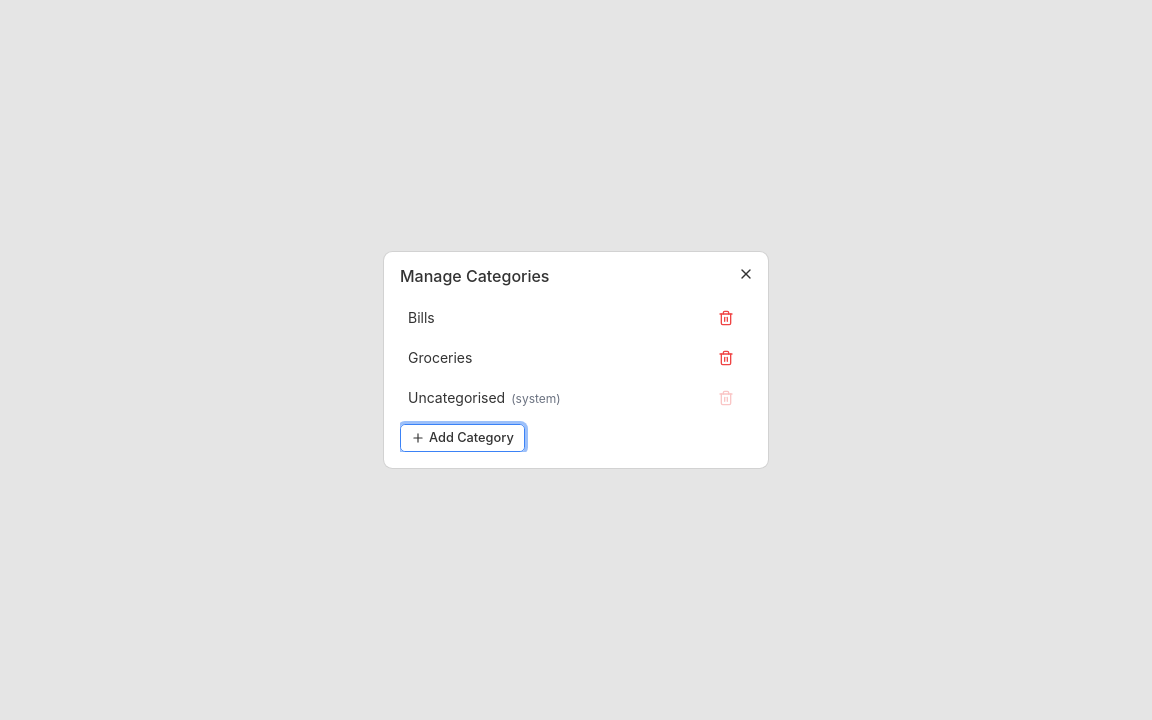
Test: CategoryManagementDialog — delete in-use category › shows replacement picker when category is in use
This screenshot has width=1152, height=720.
Click the button with test id "delete-btn-1".
click(726, 318)  # box [712,304,740,332]
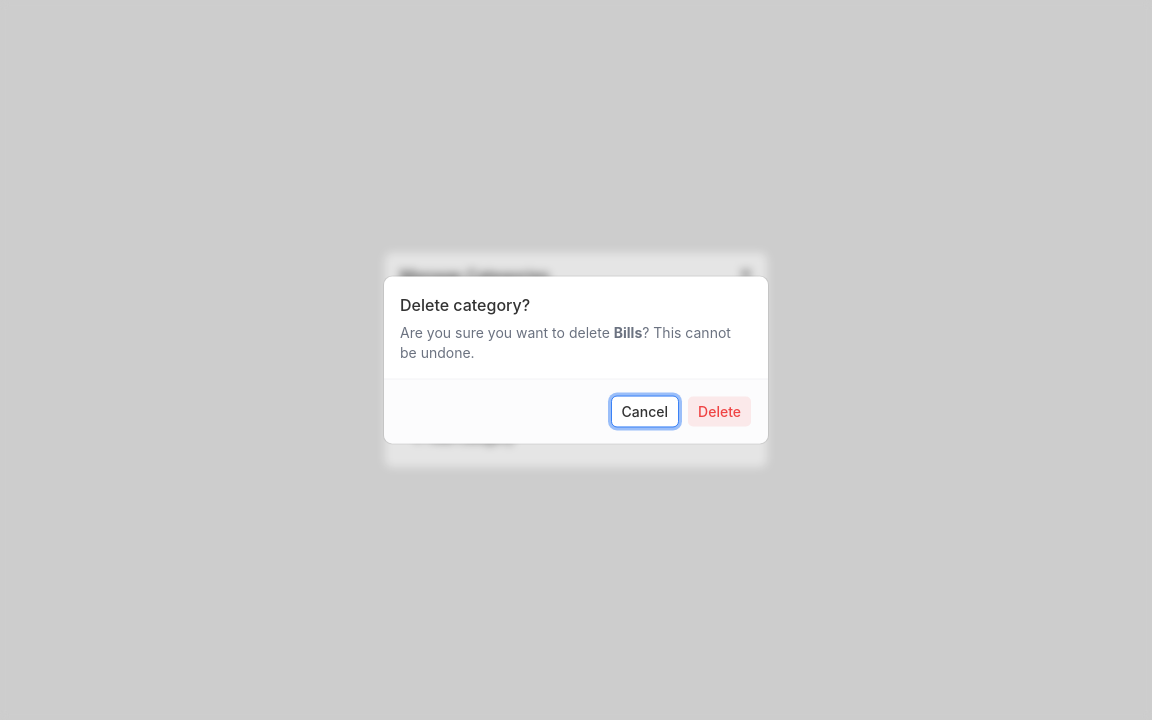
Result: the button with test id "delete-confirm" is shown
Click the button with test id "delete-confirm".
click(720, 412)  # box [687,396,752,428]
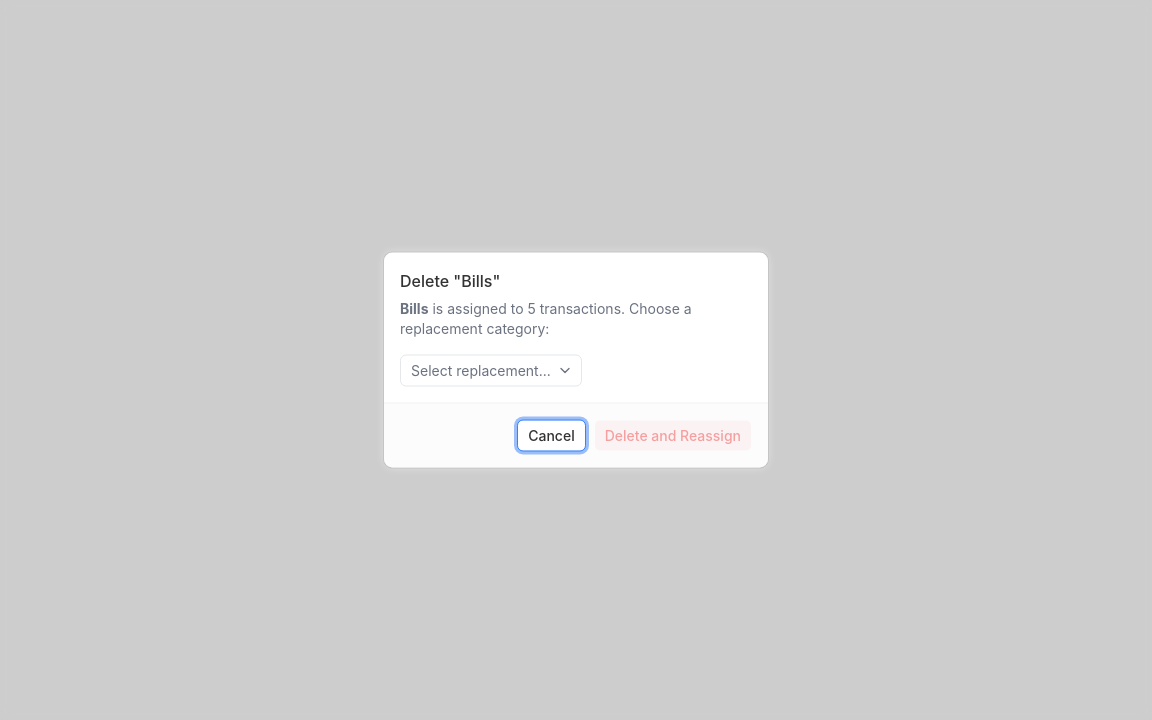
Result: the dropdown with test id "replacement-select" is shown at [400,354,582,386]
Result: the text "5 transaction" is shown at [400,300,692,336]
